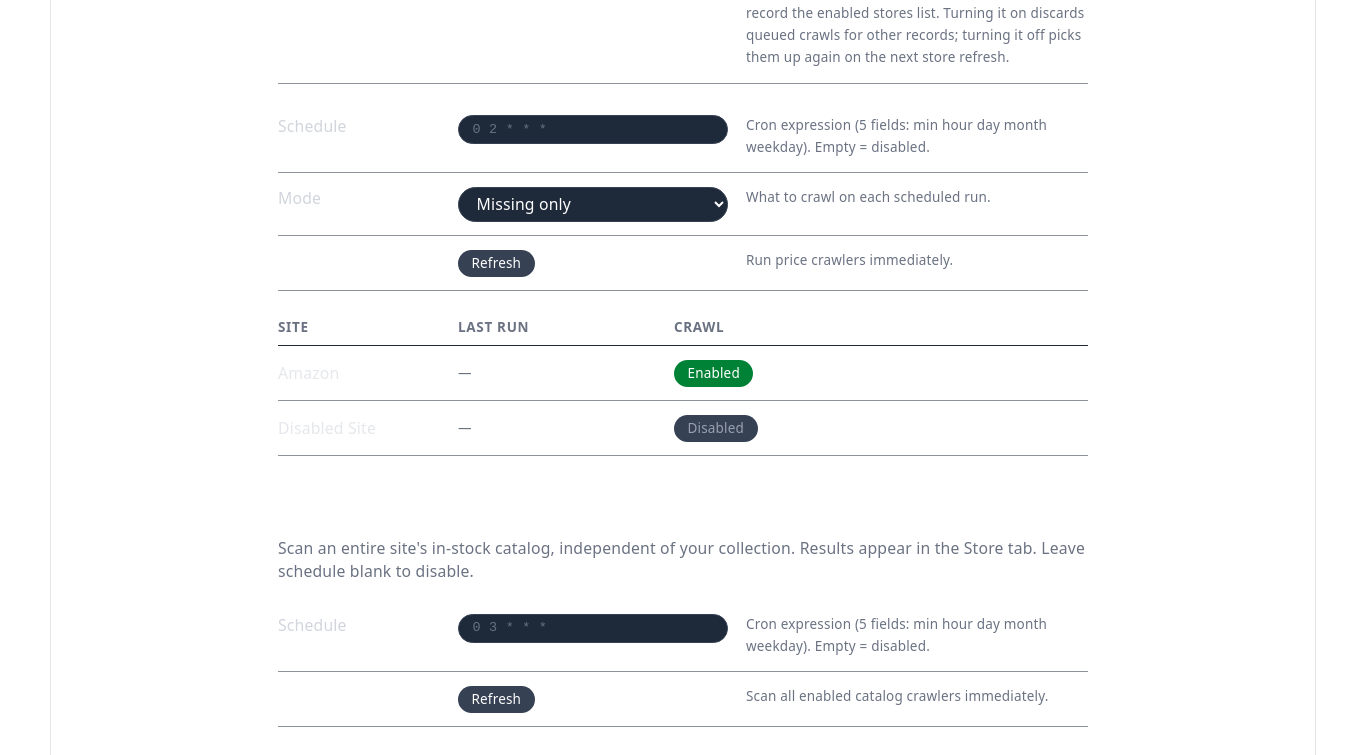
Settings › shows the discarded job count on the row that was just disabled
The width and height of the screenshot is (1366, 755).
(page scrolled)
Click the button "Enabled".
click(714, 373)  # box [674,360,753,387]
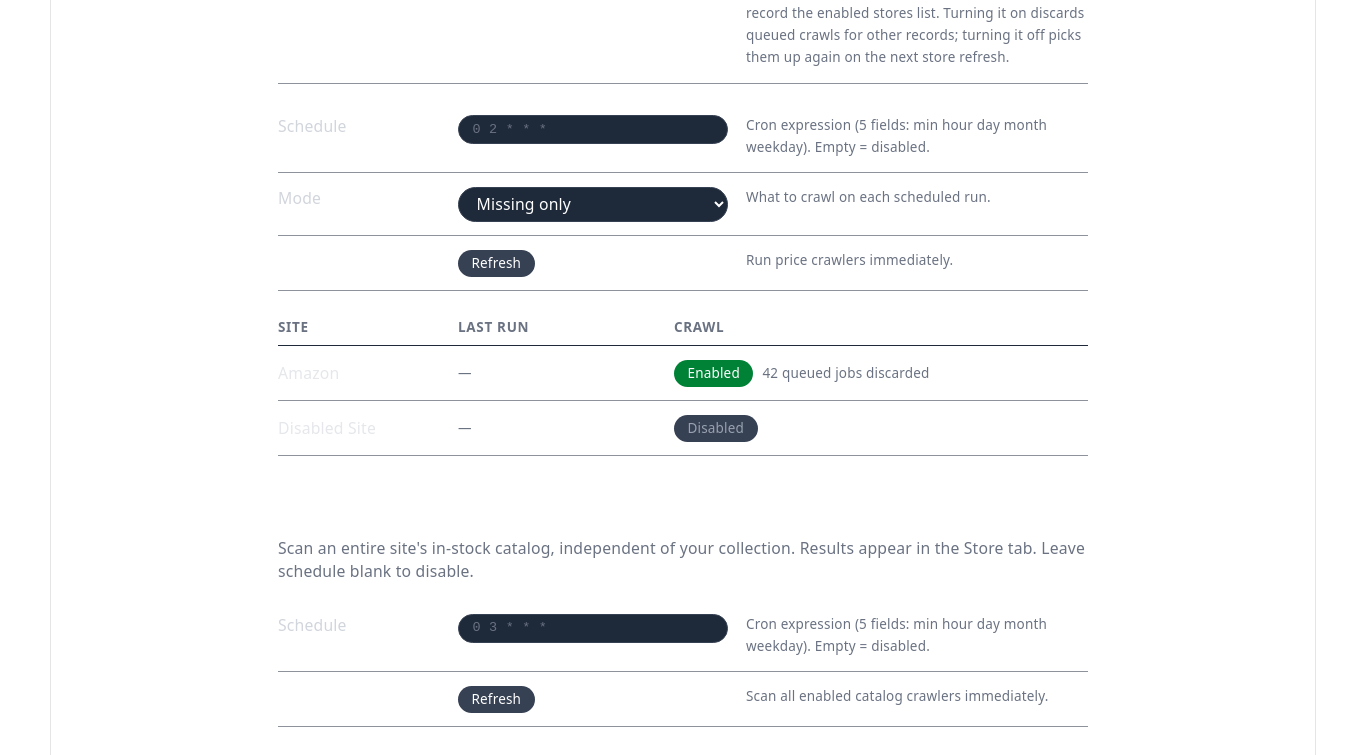
Now the text "42 queued jobs discarded" is shown, box [762,364,930,382]
